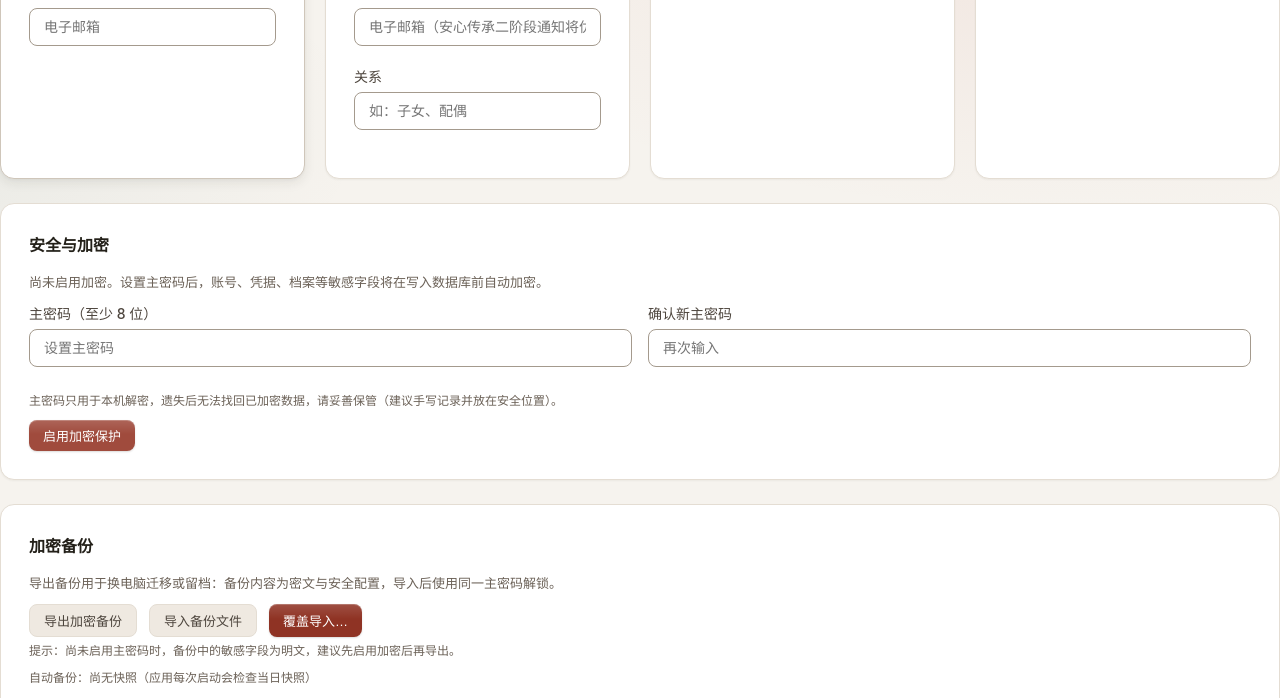
启用主密码 › 两次输入不一致时本地拦截
This screenshot has width=1280, height=698.
(page scrolled)
Type "master-pass-1" into the password field labelled "主密码（至少 8 位）".
click(330, 348); type("master-pass-1")  # box [29, 329, 632, 367]
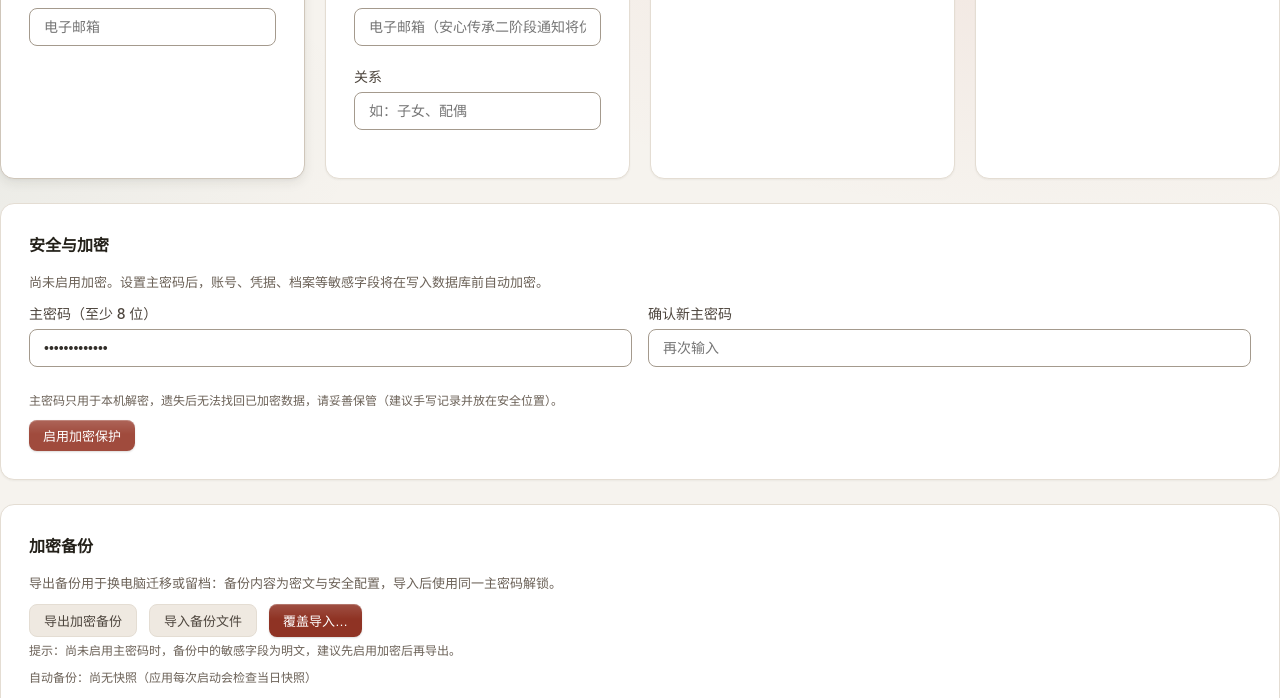
Type "master-pass-2" into the password field labelled "确认新主密码".
click(950, 348); type("master-pass-2")  # box [648, 329, 1251, 367]
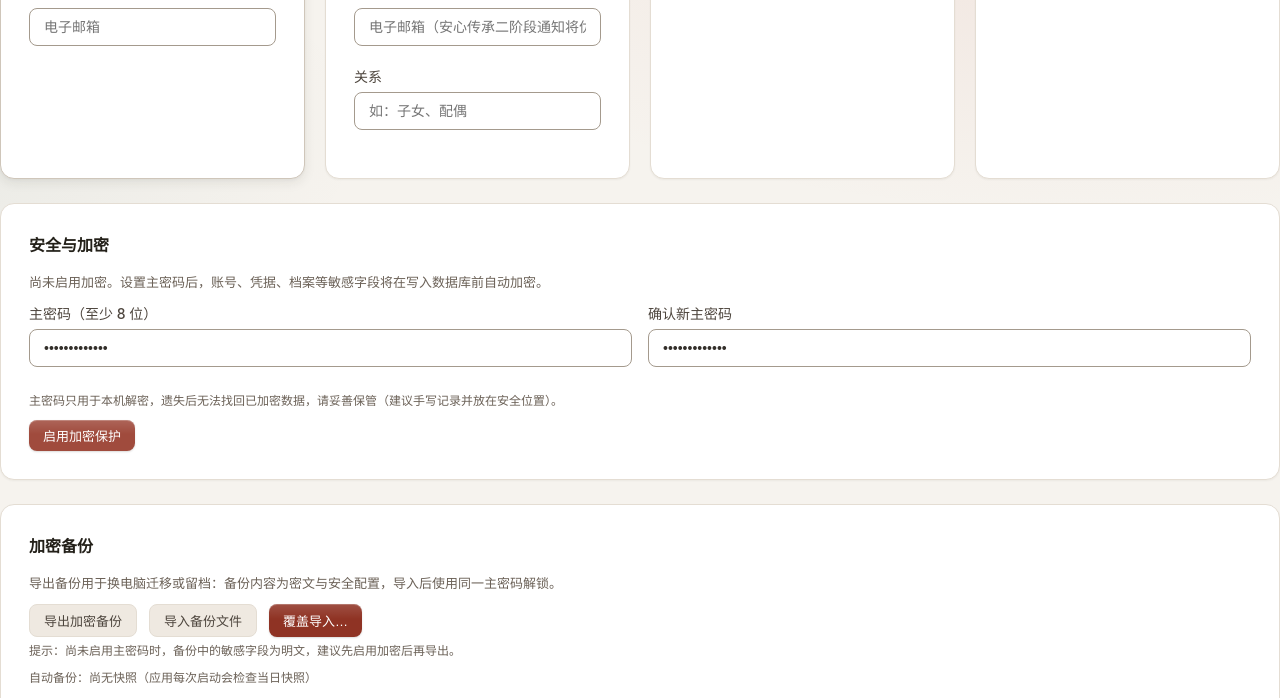
Click the button "启用加密保护".
click(82, 436)  # box [29, 420, 135, 451]
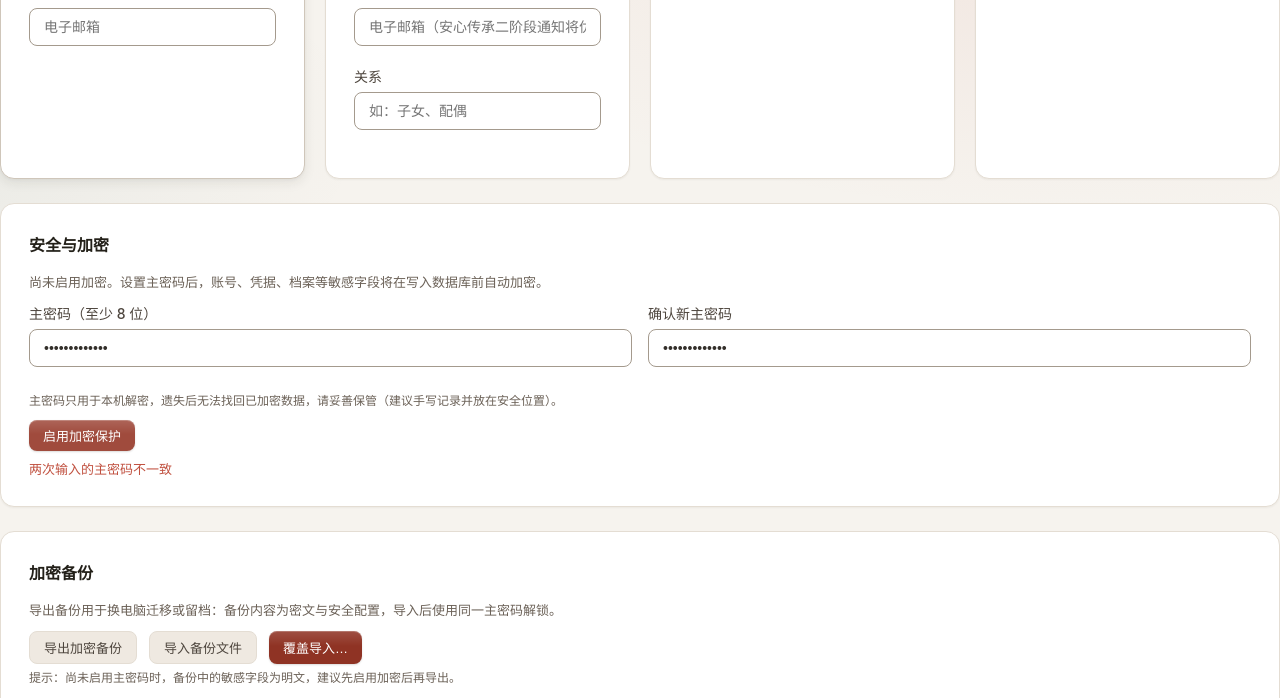
Expected: the text "不一致" is shown, [29, 461, 172, 477]
